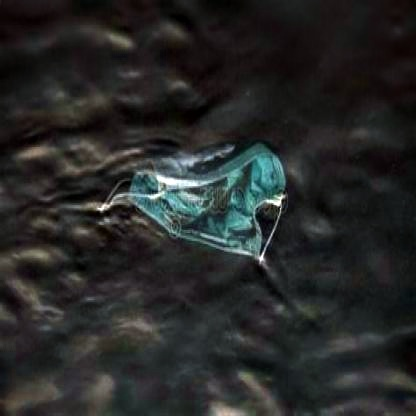Mask: (90, 136, 292, 278)
